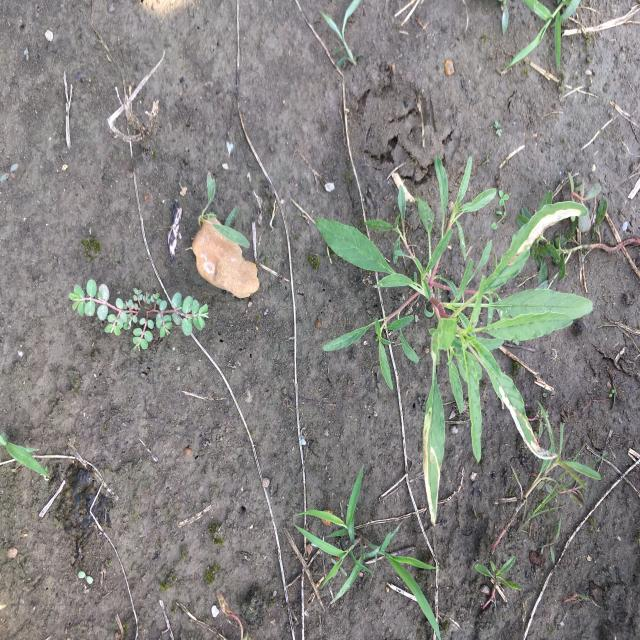SpottedSpurge: (67, 278, 210, 354)
Waterhemp: (314, 154, 594, 526)
